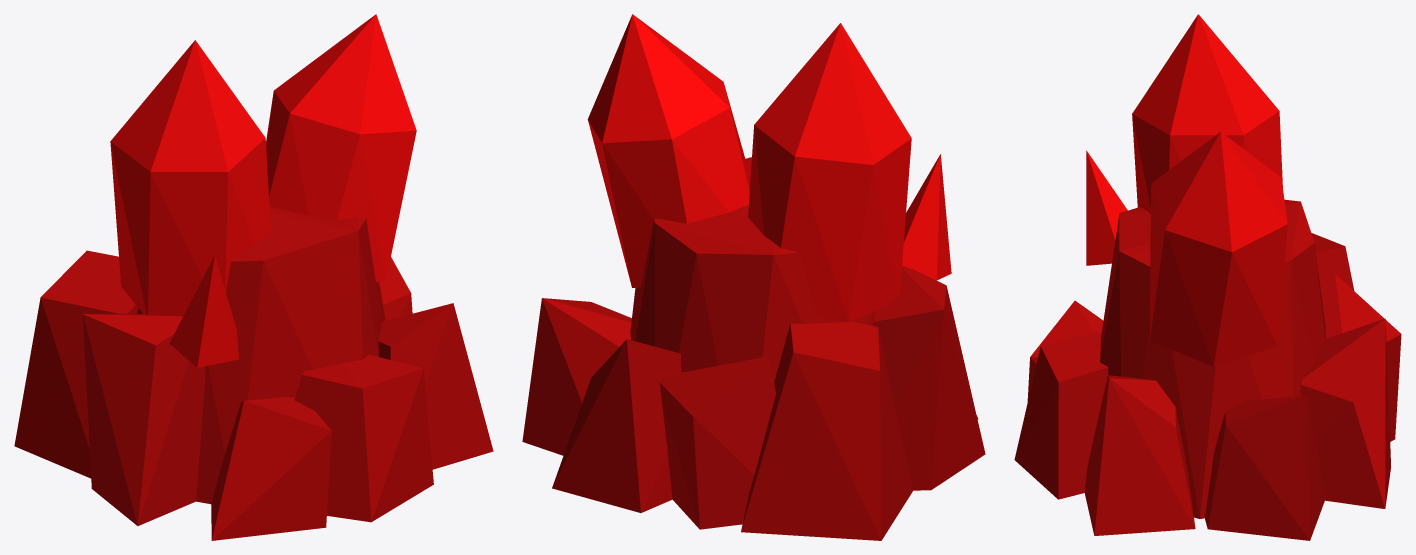
File: SM_HealChunk_03.fbx
The picture shows the model from 3 angles, left to right: view 1: azimuth 30°, elevation 25°; view 2: azimuth 150°, elevation 25°; view 3: azimuth 270°, elevation 25°; orthographic projection. The views are drawn at different scales.
Parts seen in each view (by area): view 1: SM_HealChunk_03; view 2: SM_HealChunk_03; view 3: SM_HealChunk_03.
Part boxes in pixels (<box>): SM_HealChunk_03: <box>14,14,493,540</box>; SM_HealChunk_03: <box>522,14,985,540</box>; SM_HealChunk_03: <box>1014,14,1401,540</box>.
Size of the model in its own units: 26.55 by 30 by 25.71.
